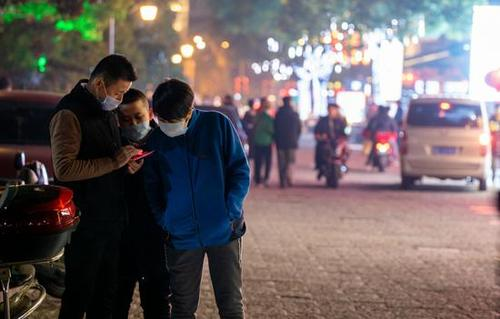yes_mask: (84, 50, 136, 112), (148, 76, 193, 137), (116, 88, 151, 142)
